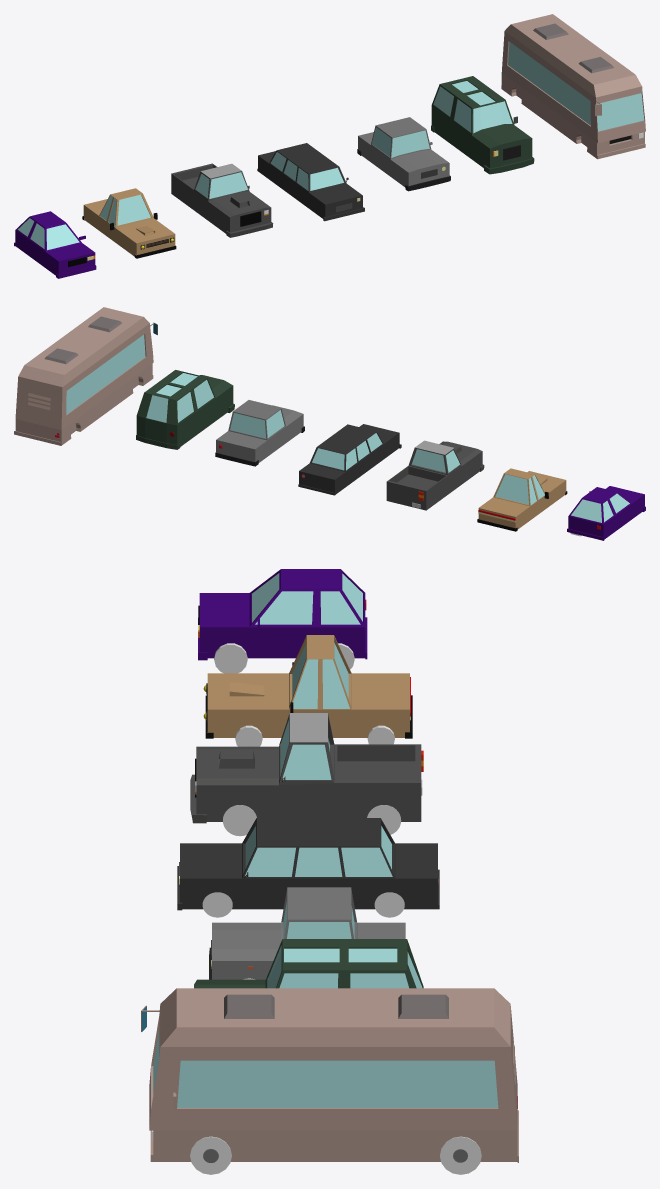
File: cars.glb
3 views of the same model, one above another, from view 1: azimuth 30°, elevation 25°; view 2: azimuth 150°, elevation 25°; view 3: azimuth 270°, elevation 25° (orthographic). The views are drawn at different scales.
Parts seen in each view (by area): view 1: Cube.041, Cube.033, Cube.019, Cube.024, Cube.029, Cube, Car; view 2: Cube.041, Cube.033, Cube.019, Cube.024, Cube.029, Cube, Car; view 3: Cube.041, Cube.024, Cube.019, Cube, Car, Cube.029, Cube.033, Plane.003, Plane.004, Cylinder.031, Cylinder.033, Cylinder.
Boxes of the visible parts, x1,y1,x2,y2 form: Cube.041: (501, 14, 645, 159); Cube.033: (431, 76, 534, 174); Cube.019: (171, 163, 273, 237); Cube.024: (258, 143, 362, 218); Cube.029: (357, 117, 450, 191); Cube: (82, 188, 176, 258); Car: (14, 211, 96, 278); Cube.041: (14, 307, 153, 445); Cube.033: (136, 370, 234, 449); Cube.019: (386, 440, 484, 510); Cube.024: (299, 424, 399, 494); Cube.029: (215, 400, 304, 466); Cube: (477, 468, 567, 531); Car: (567, 486, 645, 540); Cube.041: (149, 988, 518, 1162); Cube.024: (180, 818, 437, 909); Cube.019: (190, 713, 421, 823); Cube: (205, 635, 412, 738); Car: (198, 569, 367, 660); Cube.029: (209, 887, 405, 979); Cube.033: (194, 939, 423, 988); Plane.003: (398, 994, 448, 1018); Plane.004: (224, 994, 274, 1018); Cylinder.031: (439, 1136, 481, 1174); Cylinder.033: (190, 1136, 231, 1174); Cylinder: (214, 643, 247, 673).
Size of what is drawn, in the model's own units: 35.61 by 4.6 by 10.52.
